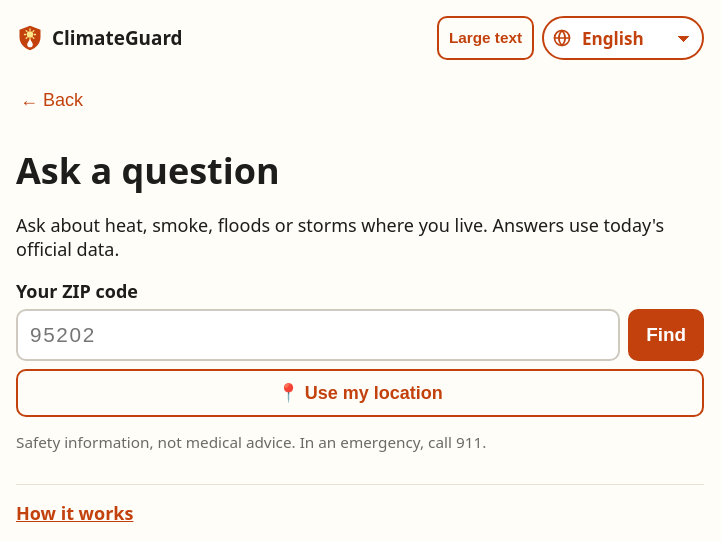
Test: the URL follows the screen (refresh, Back and Forward) › the language survives a refresh
Select "Tiếng Việt" in the dropdown: x=623, y=38 [542,16,704,60]
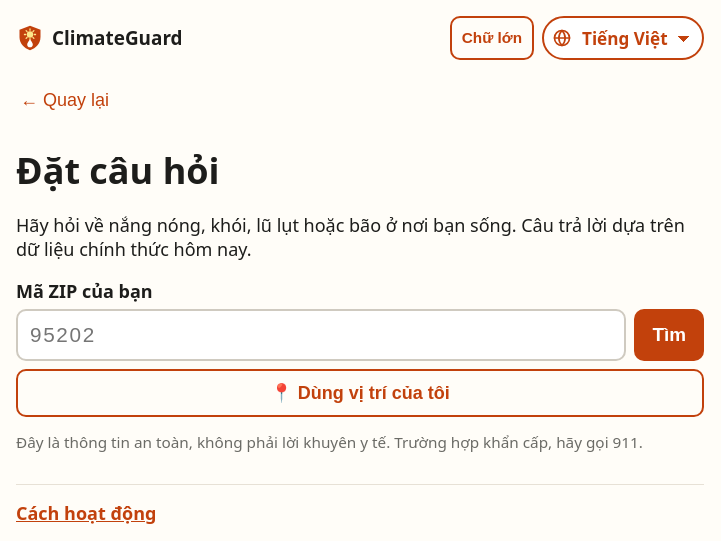
Expected: the heading "Đặt câu hỏi" is shown, [16,146,220,195]
